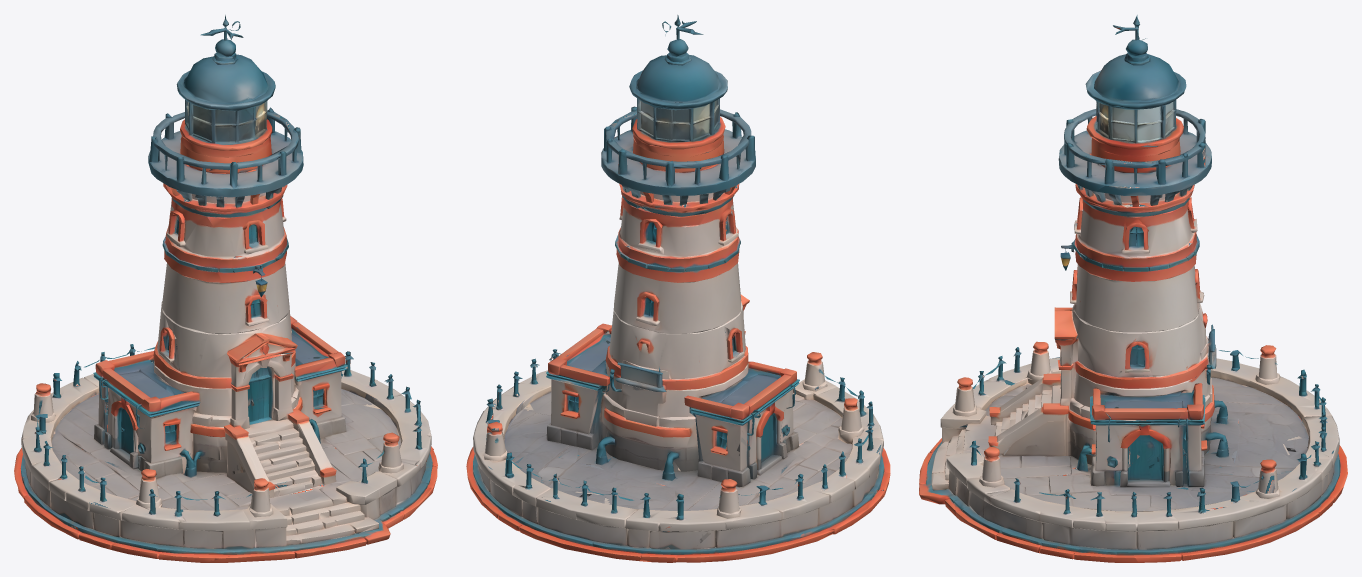
The model's file is lighthouse-cartoon-mobile-decimated.glb.
3 renders of one model, left to right at view 1: azimuth 30°, elevation 25°; view 2: azimuth 150°, elevation 25°; view 3: azimuth 270°, elevation 25°, orthographic.
Visible parts, largest first — view 1: model; view 2: model; view 3: model.
Part boxes in pixels (x1,y1,x2,y2): model: (14, 15, 437, 562); model: (466, 15, 890, 562); model: (919, 15, 1347, 562).
Size of the model in its own units: 1.58 by 1.9 by 1.6.
Materials: 1 (1 with a texture image).
